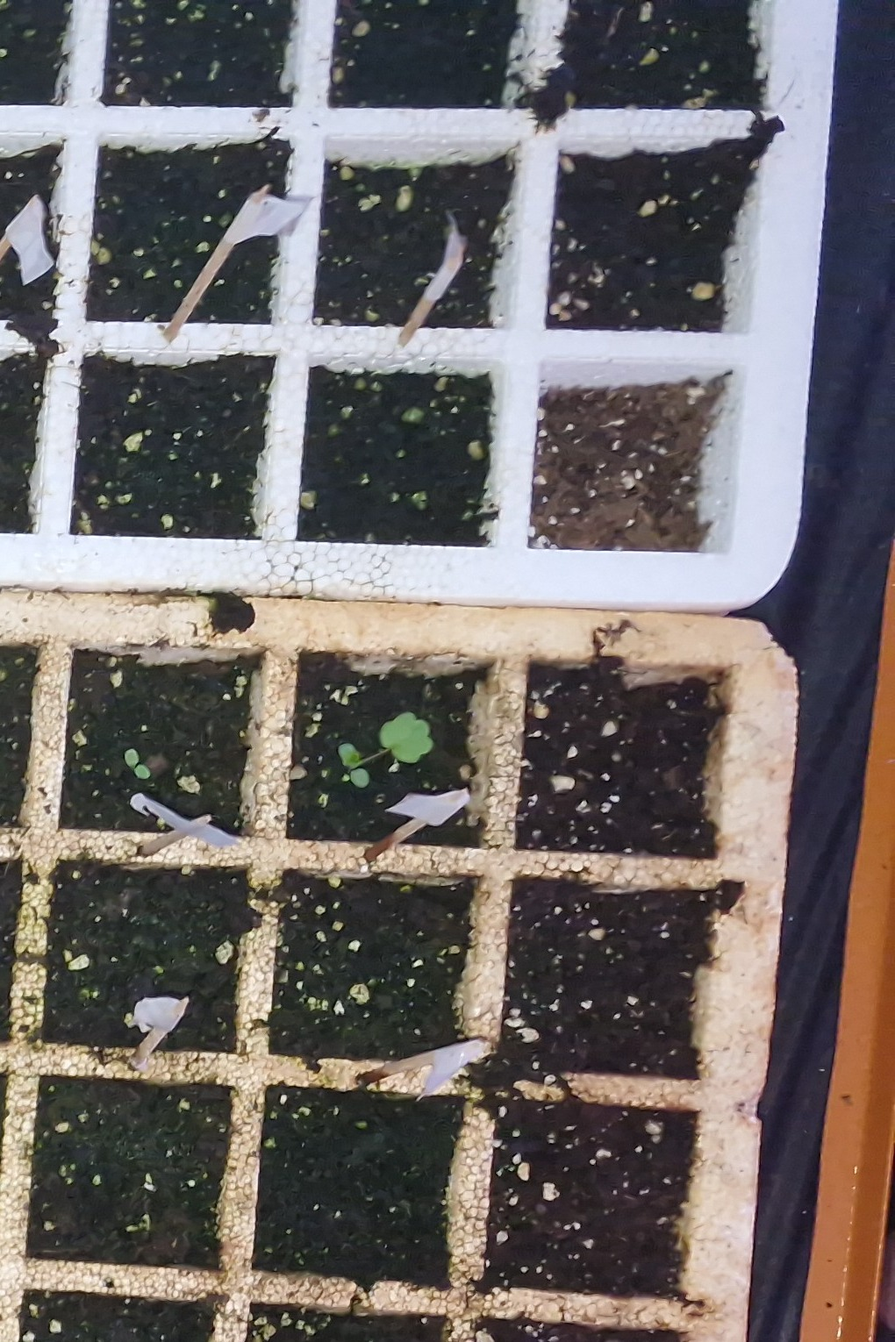Folha: (379, 712, 433, 762), (351, 769, 369, 787), (338, 743, 358, 759), (134, 765, 149, 778), (126, 750, 138, 765)
Germinacao: (339, 712, 433, 788), (125, 749, 150, 779)
